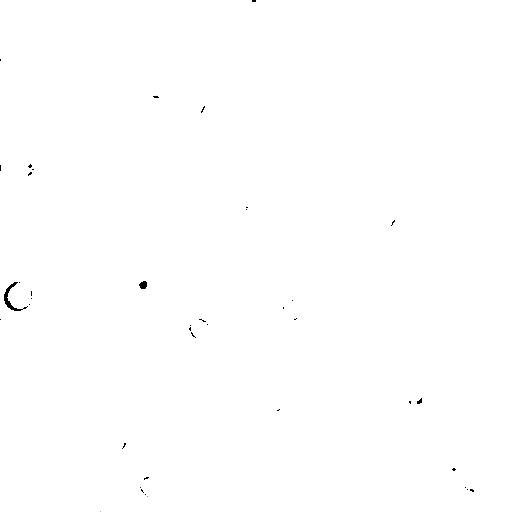micro-algae: (270, 0, 337, 30), (125, 267, 159, 301), (177, 7, 210, 41), (225, 188, 257, 220), (315, 281, 347, 313), (435, 451, 470, 479), (462, 49, 490, 83), (301, 261, 333, 290), (455, 473, 489, 500), (4, 280, 33, 311), (399, 380, 430, 409), (29, 17, 57, 48), (0, 38, 23, 69), (391, 89, 413, 121), (281, 293, 305, 321), (267, 403, 296, 426), (213, 39, 240, 63), (359, 457, 388, 479), (235, 0, 272, 17), (135, 34, 159, 59), (138, 473, 161, 499), (284, 384, 311, 406), (49, 450, 71, 476), (191, 451, 216, 472), (188, 318, 210, 341), (141, 373, 165, 394), (422, 148, 446, 169), (389, 213, 409, 237), (393, 0, 415, 21), (105, 434, 127, 454), (201, 101, 220, 123), (245, 391, 264, 412), (248, 161, 269, 180), (187, 118, 209, 135), (9, 337, 25, 359), (17, 161, 36, 179), (133, 309, 153, 326), (155, 0, 179, 14), (435, 0, 468, 10), (76, 425, 93, 442), (152, 315, 167, 334), (69, 273, 79, 285)
